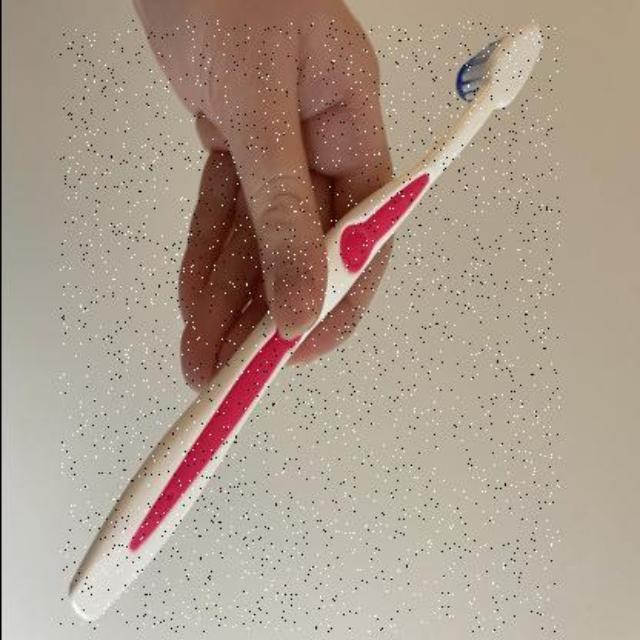toothbrush: (58, 21, 558, 633)
